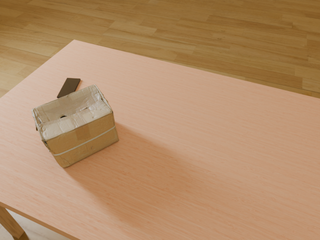box: (31, 84, 119, 168)
phone: (57, 78, 80, 98)
